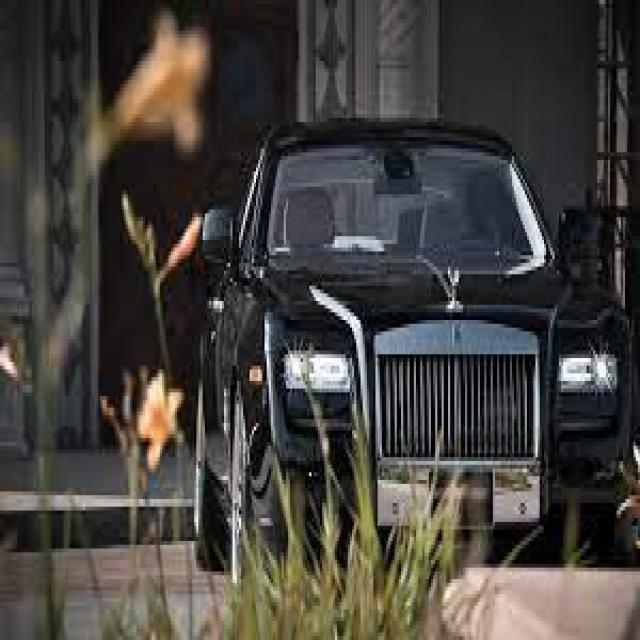car: (189, 126, 637, 615)
